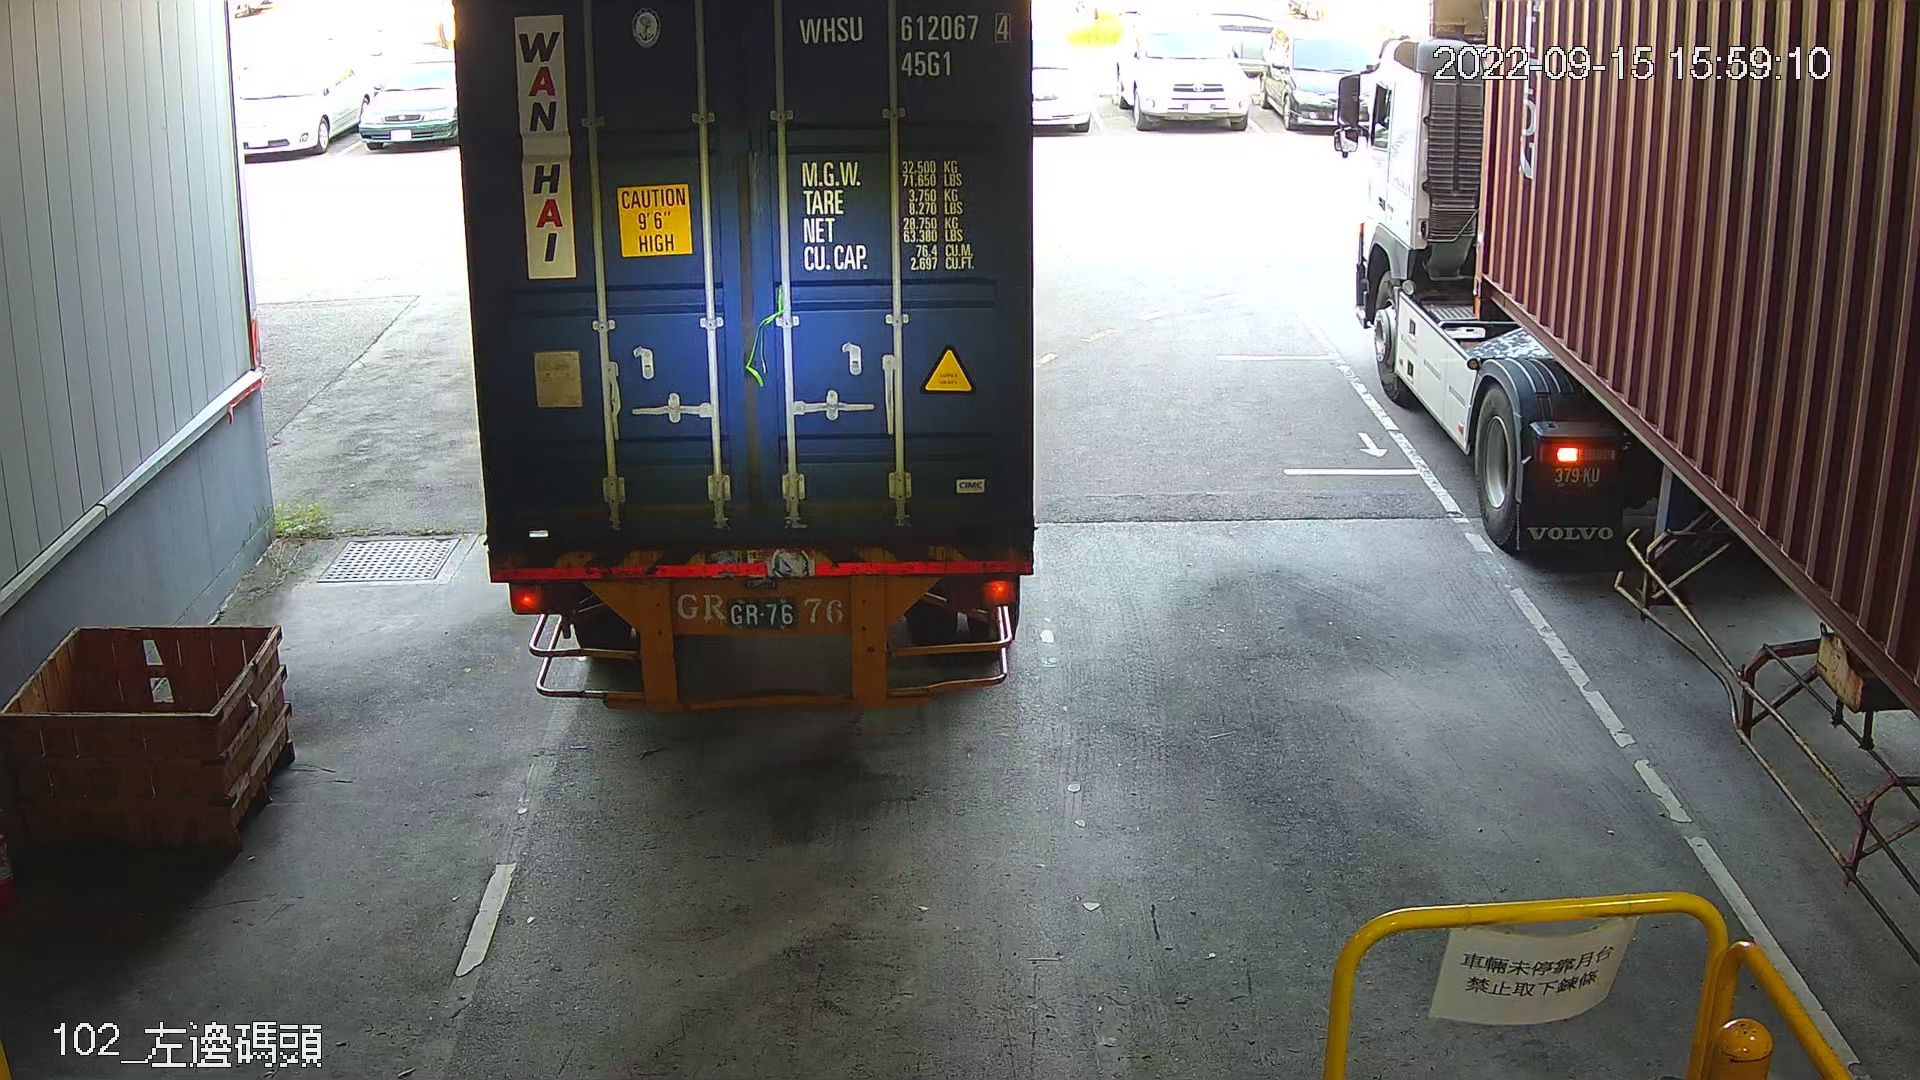container: (789, 5, 1015, 84)
